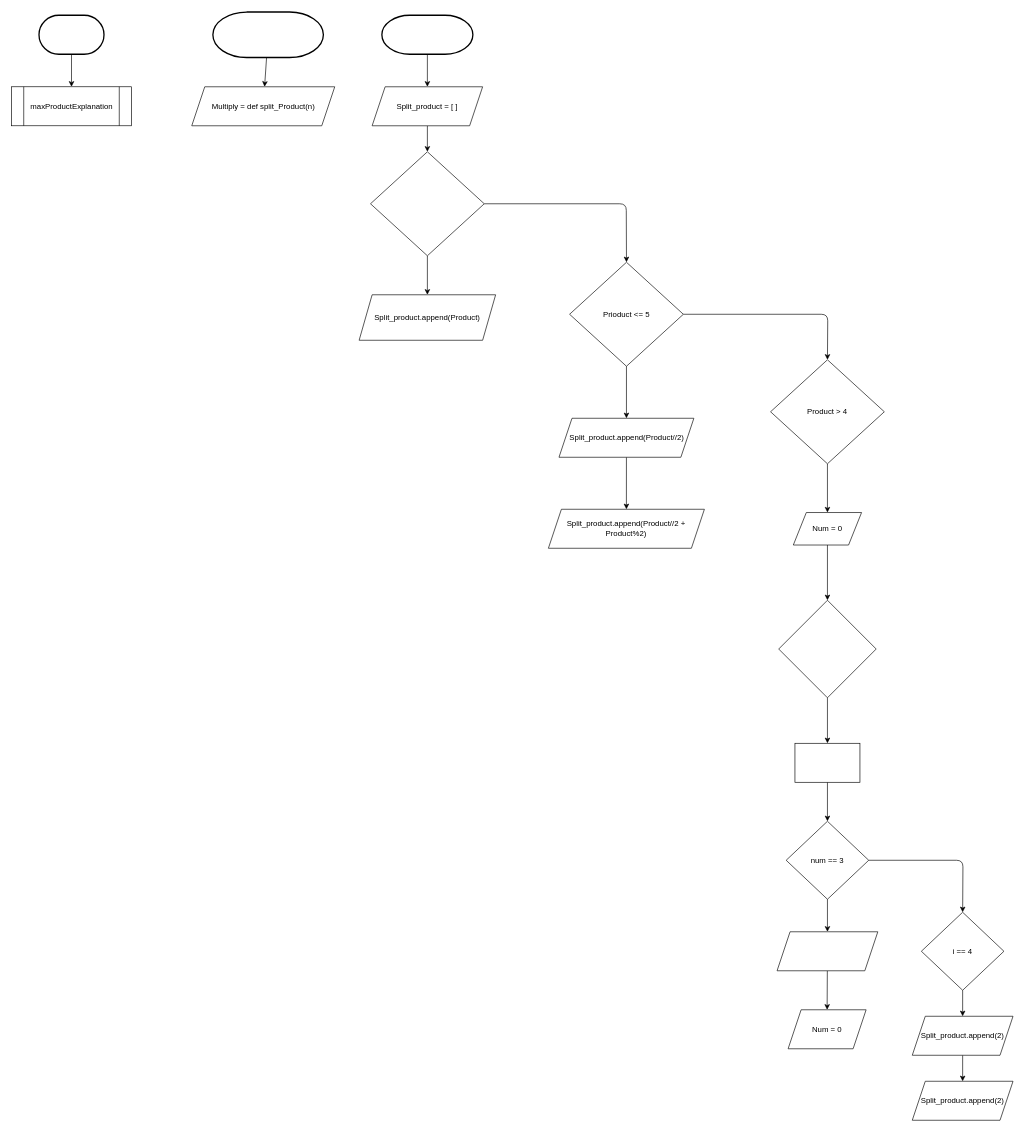
Some shapes in this 1024 by 1132 pixel diagram are drawn without their labels. The shapes that lost their labels are listed below. From the top down, each one's box as (x1, y1, x2, y2) in pixels, then its label:
(38, 14, 104, 55): Start
(212, 11, 324, 58): MaxProductExplannation(n)
(381, 14, 473, 55): Split_Product(Product)
(370, 151, 484, 256): Product == 0 or Product == 1
(778, 600, 876, 698): for i in range(Product,0,-1)
(794, 743, 860, 782): Num += 1
(776, 931, 878, 971): Split_product.append(3)
